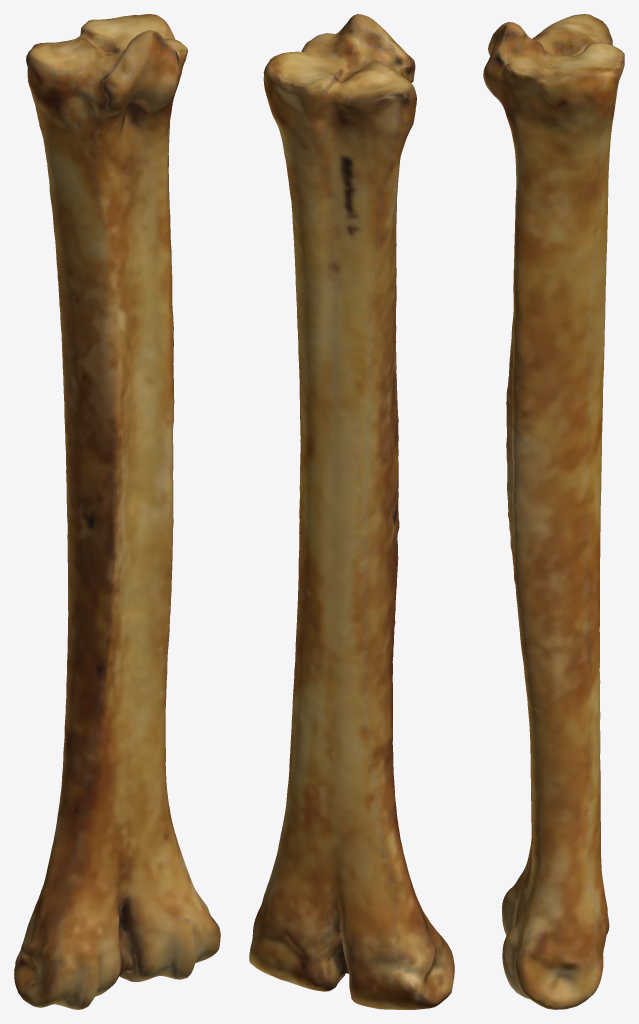
File: metatarsal.glb
The picture shows the model from 3 angles, left to right: view 1: azimuth 30°, elevation 25°; view 2: azimuth 150°, elevation 25°; view 3: azimuth 270°, elevation 25°; orthographic projection.
Parts seen in each view (by area): view 1: Alpaca Left Metatarsal; view 2: Alpaca Left Metatarsal; view 3: Alpaca Left Metatarsal.
Boxes of the visible parts, x1=… form: Alpaca Left Metatarsal: x1=14, y1=14, x2=220, y2=1009; Alpaca Left Metatarsal: x1=249, y1=14, x2=454, y2=1009; Alpaca Left Metatarsal: x1=483, y1=14, x2=624, y2=1009.
Size of the model in its own units: 0.0378 by 0.1895 by 0.0252.
1 material, 1 textured.
